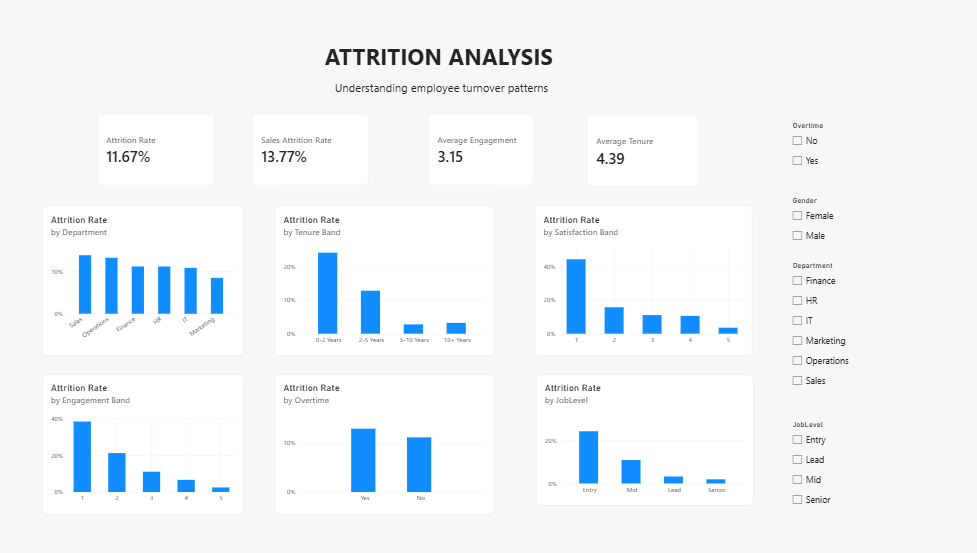

This screenshot's page, from the dashboard's own definition file:
{"tool":"powerbi","page":{"name":"Attrition Analysis","canvas":[1920,1080],"ordinal":1},"visuals":[{"type":"textbox","box":[628,0,479.6,74.2],"z":0},{"type":"textbox","box":[644.2,74.2,436.1,52.5],"z":1000},{"type":"cardVisual","fields":{"Data":["Employee_Data.Attrition Rate"]},"box":[220.8,150.2,224.4,135.7],"z":2000},{"type":"cardVisual","fields":{"Data":["Employee_Data.Average Tenure"]},"box":[1138.3,153.8,211.7,135.7],"z":3000},{"type":"cardVisual","fields":{"Data":["Employee_Data.Sales Attrition Rate"]},"box":[515.8,152,222.6,135.7],"z":4000},{"type":"cardVisual","fields":{"Data":["Employee_Data.Average Engagement"]},"box":[836.1,152,200.9,135.7],"z":5000},{"type":"clusteredColumnChart","fields":{"Y":["Employee_Data.Attrition Rate"],"Category":["Employee_Data.Overtime"]},"box":[541.1,718.4,418,266],"z":6000},{"type":"clusteredColumnChart","fields":{"Y":["Employee_Data.Attrition Rate"],"Category":["Employee_Data.Engagement Band"]},"box":[97.7,718.4,383.6,266],"z":7000},{"type":"clusteredColumnChart","fields":{"Y":["Employee_Data.Attrition Rate"],"Category":["Employee_Data.Tenure Band"]},"box":[541.1,354.7,418,285.9],"z":8000},{"type":"clusteredColumnChart","fields":{"Y":["Employee_Data.Attrition Rate"],"Category":["Employee_Data.Department"]},"box":[97.7,354.7,383.6,285.9],"z":9000},{"type":"clusteredColumnChart","fields":{"Y":["Employee_Data.Attrition Rate"],"Category":["Employee_Data.JobLevel"]},"box":[1036.9,718.4,414.4,249.7],"z":10000},{"type":"clusteredColumnChart","fields":{"Y":["Employee_Data.Attrition Rate"],"Category":["Employee_Data.Satisfaction Band"]},"box":[1036.9,354.7,414.4,285.9],"z":11000},{"type":"slicer","fields":{"Values":["Employee_Data.Gender"]},"box":[1520.1,314.9,161.1,141.2],"z":12000},{"type":"slicer","fields":{"Values":["Employee_Data.JobLevel"]},"box":[1520.1,805.3,170.1,209.9],"z":13000},{"type":"slicer","fields":{"Values":["Employee_Data.Overtime"]},"box":[1520.1,126.7,115.8,112.2],"z":14000},{"type":"slicer","fields":{"Values":["Employee_Data.Department"]},"box":[1520.1,503.1,148.4,276.9],"z":15000}]}

Visuals, with their boxes in screenshot pixels (x1, y1, x2, y2), scaled from the page's 1920x1080 canvas onto the 977x553 screenshot:
textbox: detection(320, 0, 564, 38)
textbox: detection(328, 38, 550, 65)
cardVisual - Employee_Data.Attrition Rate: detection(112, 77, 227, 146)
cardVisual - Employee_Data.Average Tenure: detection(579, 79, 687, 148)
cardVisual - Employee_Data.Sales Attrition Rate: detection(262, 78, 376, 147)
cardVisual - Employee_Data.Average Engagement: detection(425, 78, 528, 147)
clusteredColumnChart - Employee_Data.Attrition Rate x Employee_Data.Overtime: detection(275, 368, 488, 504)
clusteredColumnChart - Employee_Data.Attrition Rate x Employee_Data.Engagement Band: detection(50, 368, 245, 504)
clusteredColumnChart - Employee_Data.Attrition Rate x Employee_Data.Tenure Band: detection(275, 182, 488, 328)
clusteredColumnChart - Employee_Data.Attrition Rate x Employee_Data.Department: detection(50, 182, 245, 328)
clusteredColumnChart - Employee_Data.Attrition Rate x Employee_Data.JobLevel: detection(528, 368, 739, 496)
clusteredColumnChart - Employee_Data.Attrition Rate x Employee_Data.Satisfaction Band: detection(528, 182, 739, 328)
slicer - Employee_Data.Gender: detection(774, 161, 855, 234)
slicer - Employee_Data.JobLevel: detection(774, 412, 860, 520)
slicer - Employee_Data.Overtime: detection(774, 65, 832, 122)
slicer - Employee_Data.Department: detection(774, 258, 849, 399)
